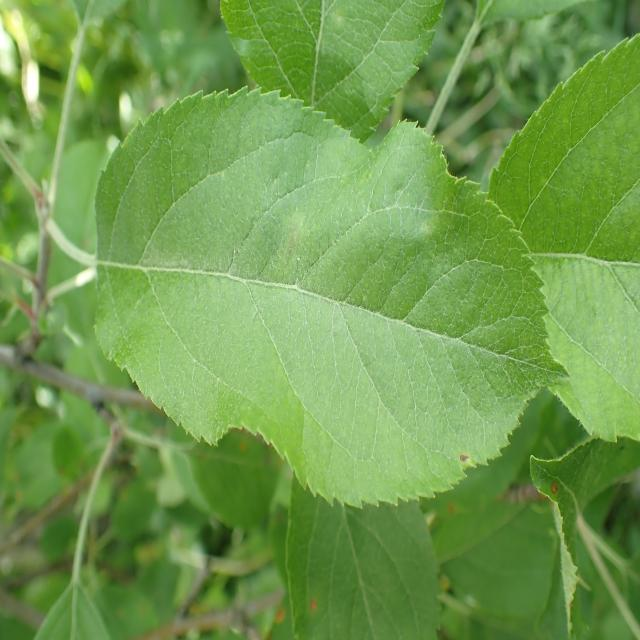scab: (128, 132, 514, 454)
